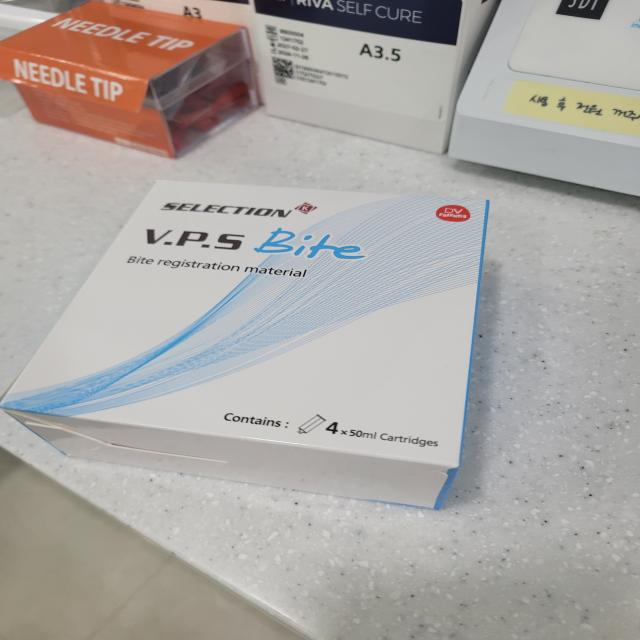impression: (0, 159, 512, 523)
